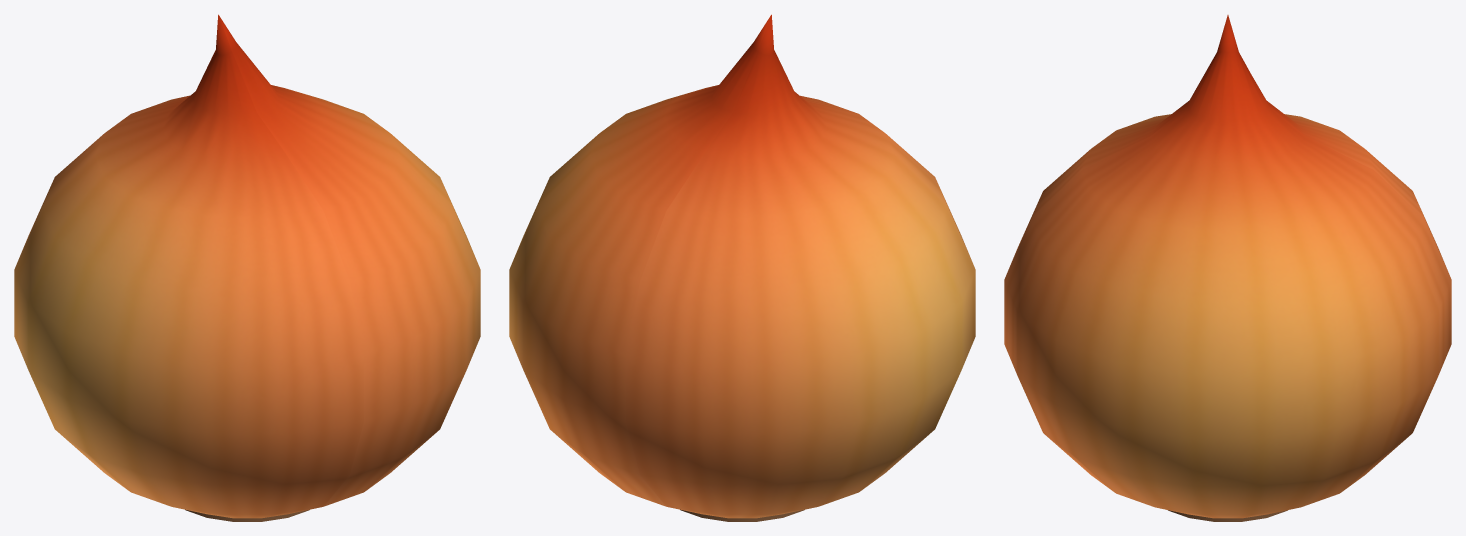
Rendered from ENV1810020.fbx.
3 views of the same model, side by side, from view 1: azimuth 30°, elevation 25°; view 2: azimuth 150°, elevation 25°; view 3: azimuth 270°, elevation 25° (orthographic). The views are drawn at different scales.
Parts seen in each view (by area): view 1: smENV1810020; view 2: smENV1810020; view 3: smENV1810020.
Part boxes in pixels (bbox=[...]): smENV1810020: bbox=[14, 14, 480, 521]; smENV1810020: bbox=[509, 14, 975, 521]; smENV1810020: bbox=[1004, 15, 1451, 521].
Size of the model in its own units: 7.66 by 8.86 by 7.78.
Materials: 1 (1 with a texture image).
